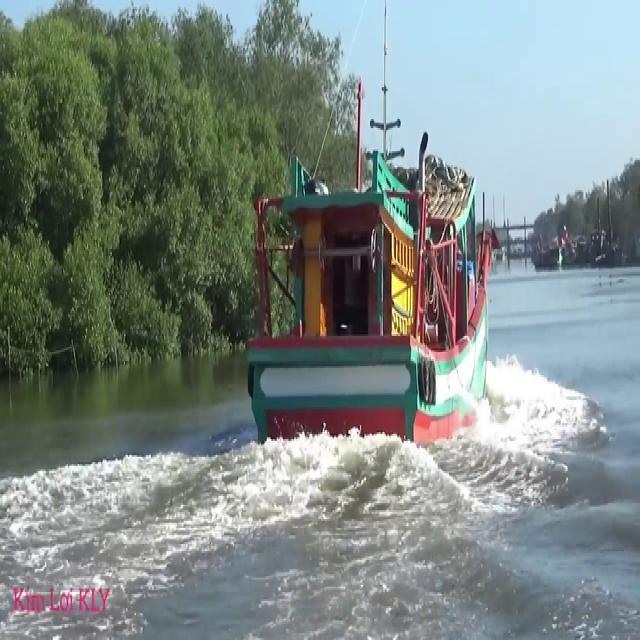Ship: (245, 134, 495, 465)
